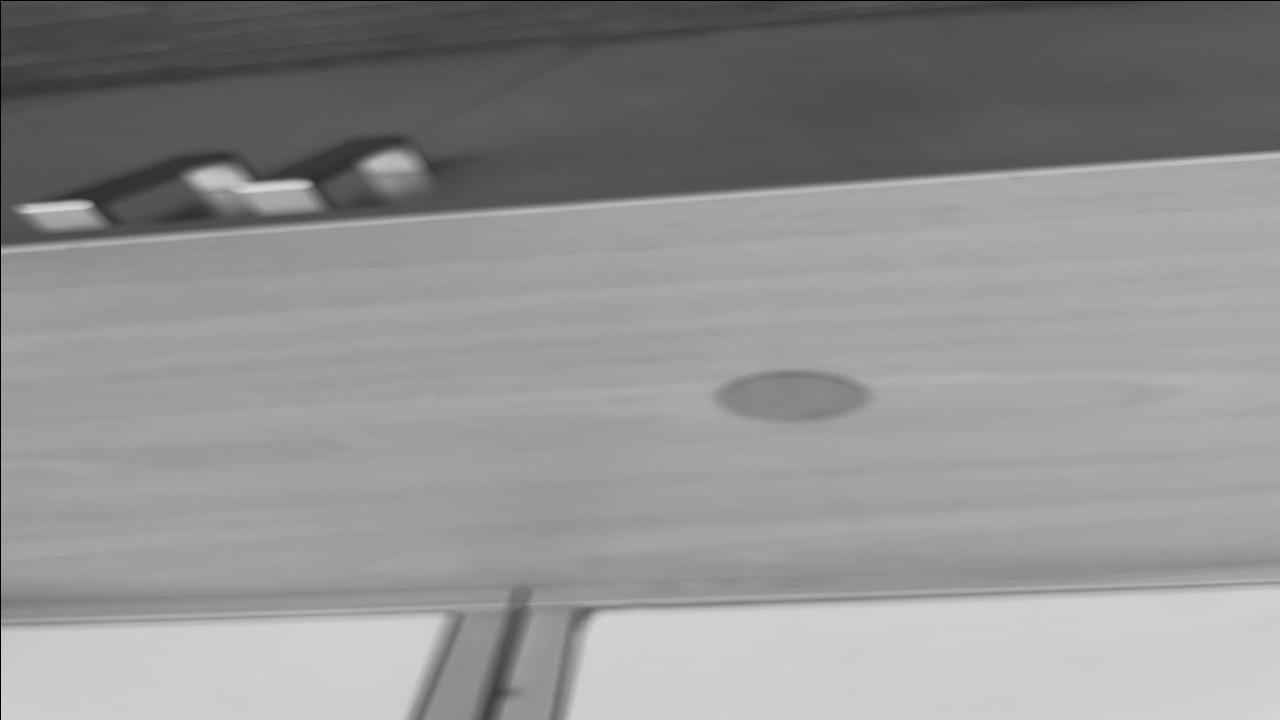coin: (706, 369, 872, 424)
